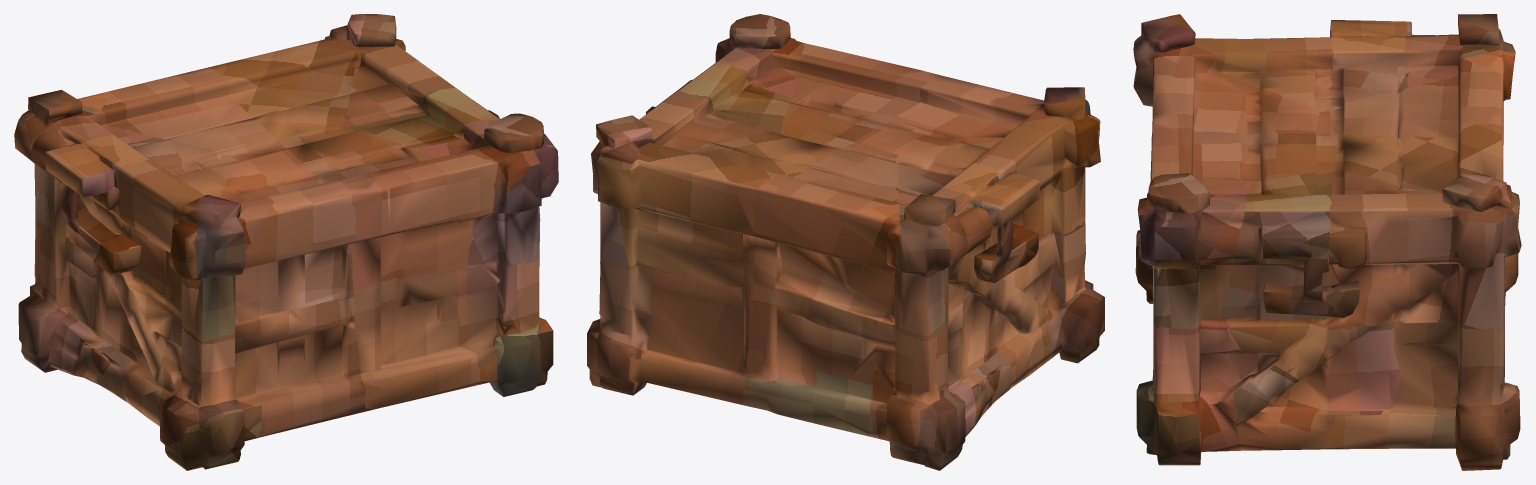
File: fallback_crate.glb
3 views of the same model, side by side, from view 1: azimuth 30°, elevation 25°; view 2: azimuth 150°, elevation 25°; view 3: azimuth 270°, elevation 25° (orthographic). The views are drawn at different scales.
Visible parts, largest first — view 1: tripo_node_6daada55-2662-4ce7-826b-64c22b0bc5f6; view 2: tripo_node_6daada55-2662-4ce7-826b-64c22b0bc5f6; view 3: tripo_node_6daada55-2662-4ce7-826b-64c22b0bc5f6.
Boxes of the visible parts, x1,y1,x2,y2 form: tripo_node_6daada55-2662-4ce7-826b-64c22b0bc5f6: (14, 14, 558, 470); tripo_node_6daada55-2662-4ce7-826b-64c22b0bc5f6: (587, 14, 1104, 470); tripo_node_6daada55-2662-4ce7-826b-64c22b0bc5f6: (1133, 14, 1521, 470).
Size of the model in its own units: 0.9991 by 0.6176 by 0.7853.
1 material, 1 textured.
